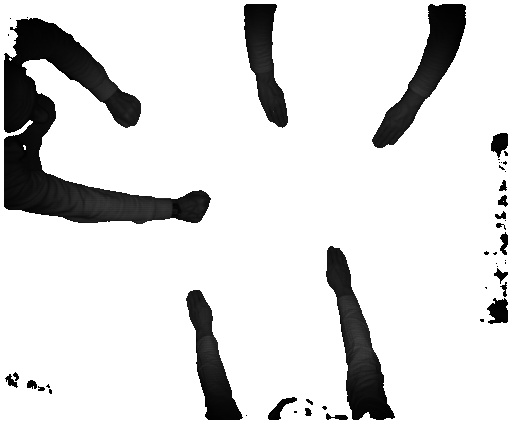fist: (178, 184, 215, 223), (109, 90, 143, 127)
hand: (368, 94, 420, 151), (320, 240, 359, 291), (256, 75, 287, 127), (186, 288, 215, 332)
